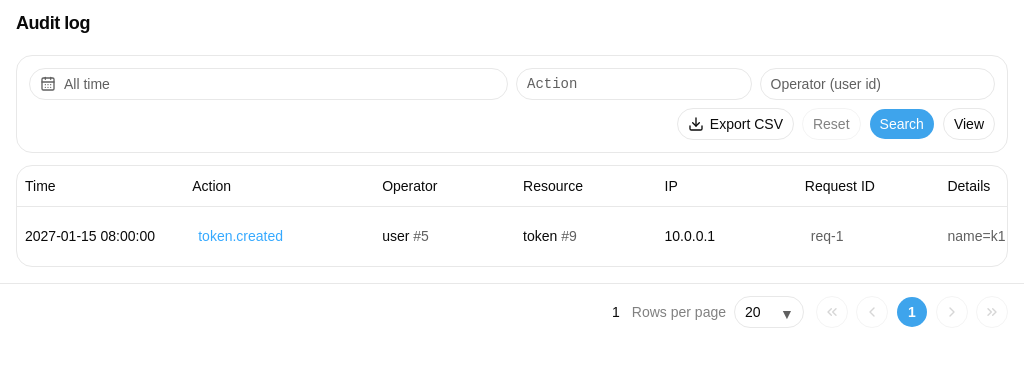
AuditLogPage › refuses a malformed operator filter without querying
This screenshot has width=1036, height=391.
Expected: the text "token.created" is shown, top-left (198, 226), bottom-right (283, 247)
Type "abc" into the field labelled "Operator (user id)" at (877, 84), box top-left (760, 68), bottom-right (995, 100)
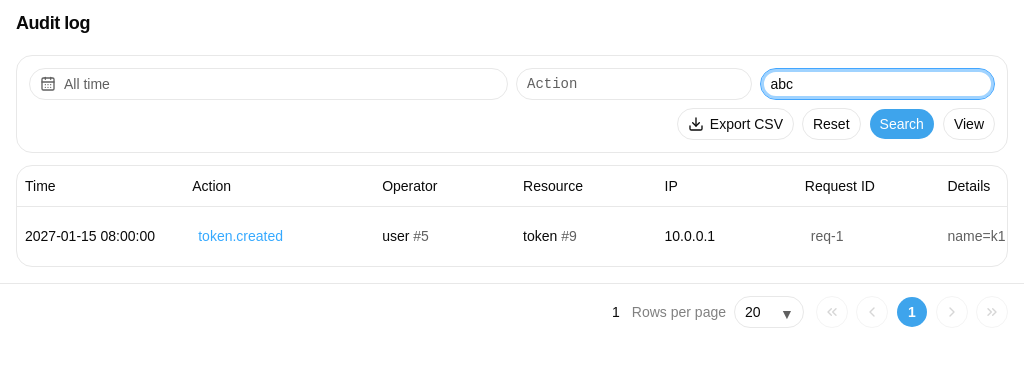
Click the button "Search" at (902, 124), box top-left (868, 108), bottom-right (935, 140)
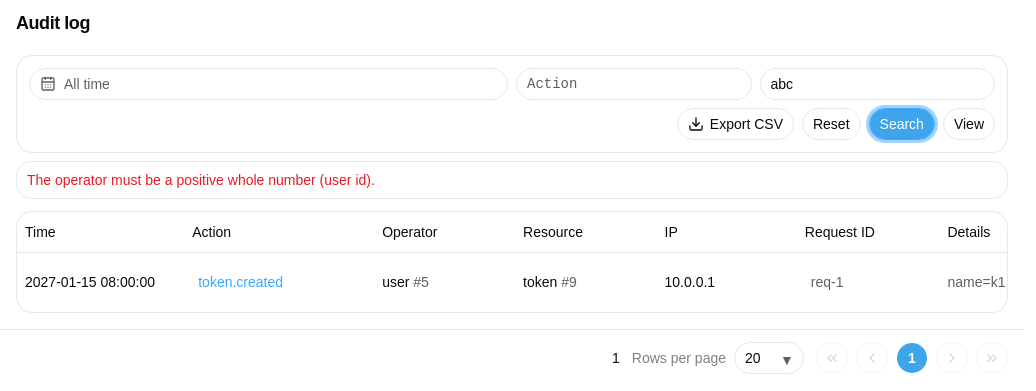
Expected: the message reads "The operator must be a positive whole number (user id).", top-left (27, 172), bottom-right (375, 188)
